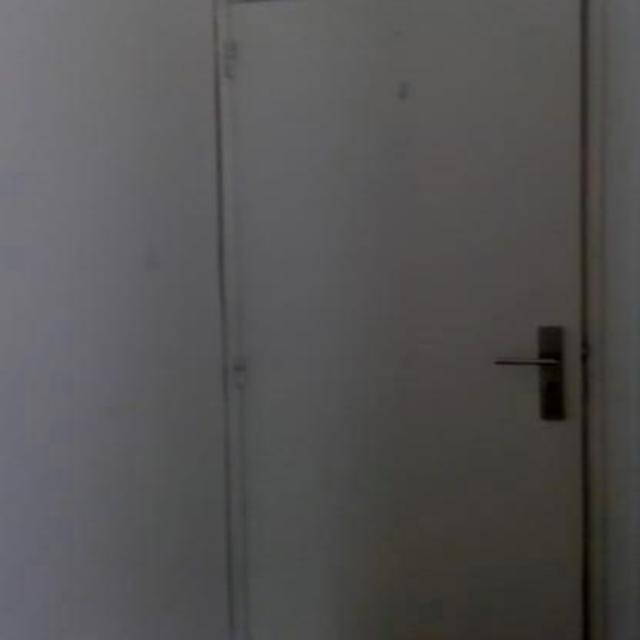door: (214, 0, 594, 638)
